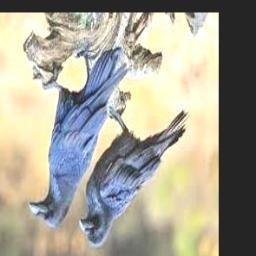Crow: (28, 43, 128, 228), (79, 105, 190, 249)
